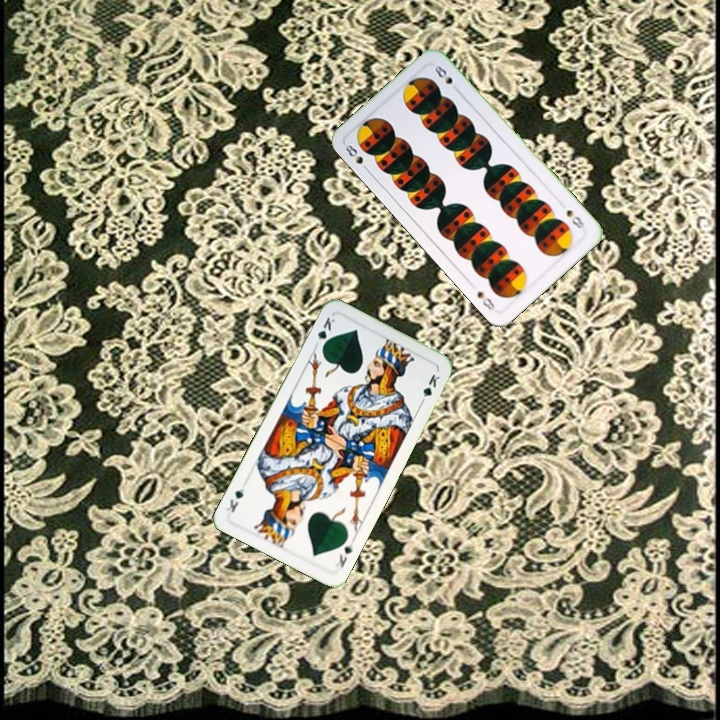GK: (311, 313, 337, 352), (331, 535, 357, 571)
S8: (339, 140, 372, 174), (562, 206, 587, 231)
